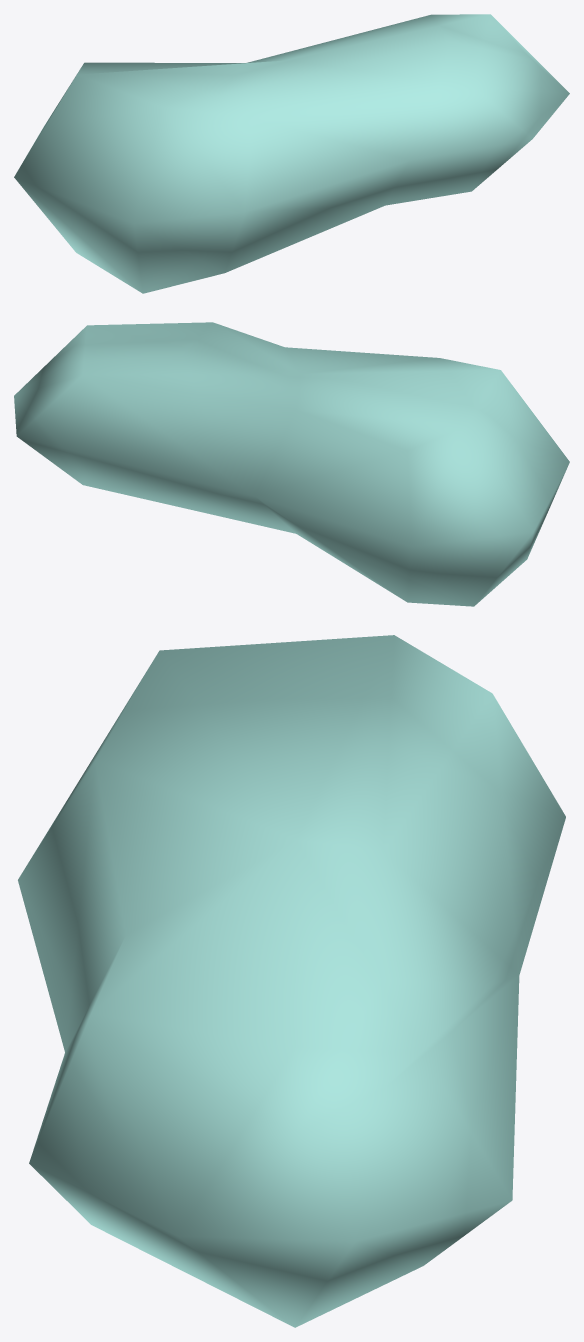
Rendered from tr_seaglass06.fbx.
3 renders of one model, top to bottom at view 1: azimuth 30°, elevation 25°; view 2: azimuth 150°, elevation 25°; view 3: azimuth 270°, elevation 25°, orthographic. The views are drawn at different scales.
Visible parts, largest first — view 1: tr_seaglass06; view 2: tr_seaglass06; view 3: tr_seaglass06.
Boxes of the visible parts, bbox=[...] form: tr_seaglass06: bbox=[14, 14, 569, 293]; tr_seaglass06: bbox=[14, 322, 569, 606]; tr_seaglass06: bbox=[18, 635, 565, 1327].
Size of the model in its own units: 4.55 by 1.54 by 2.13.
